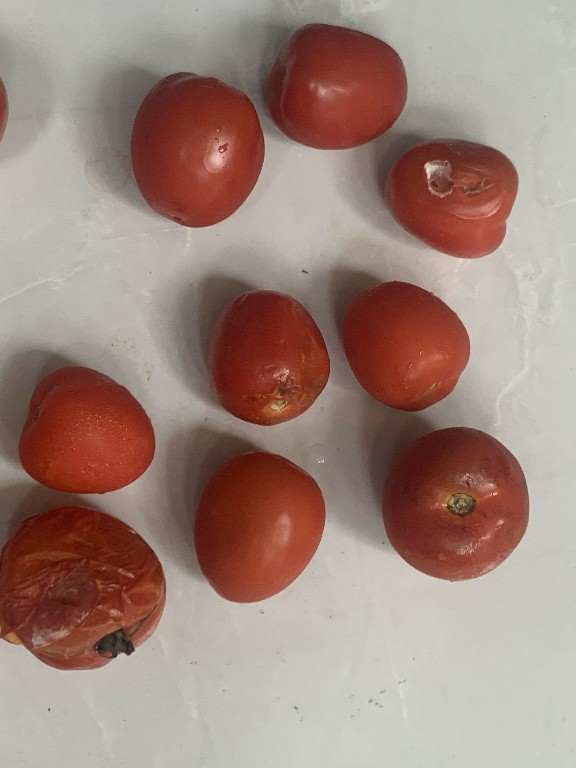NG: (0, 502, 167, 675), (379, 422, 532, 584), (204, 285, 333, 427), (385, 138, 522, 261)
OK: (188, 448, 333, 605), (127, 65, 262, 224), (13, 357, 163, 498), (267, 15, 409, 152), (337, 278, 477, 416)
